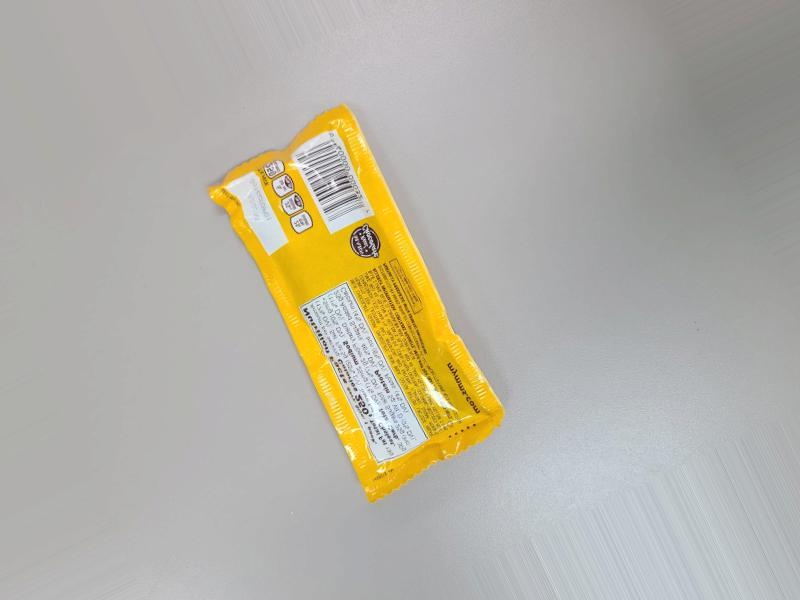m&m: (203, 101, 500, 493)
